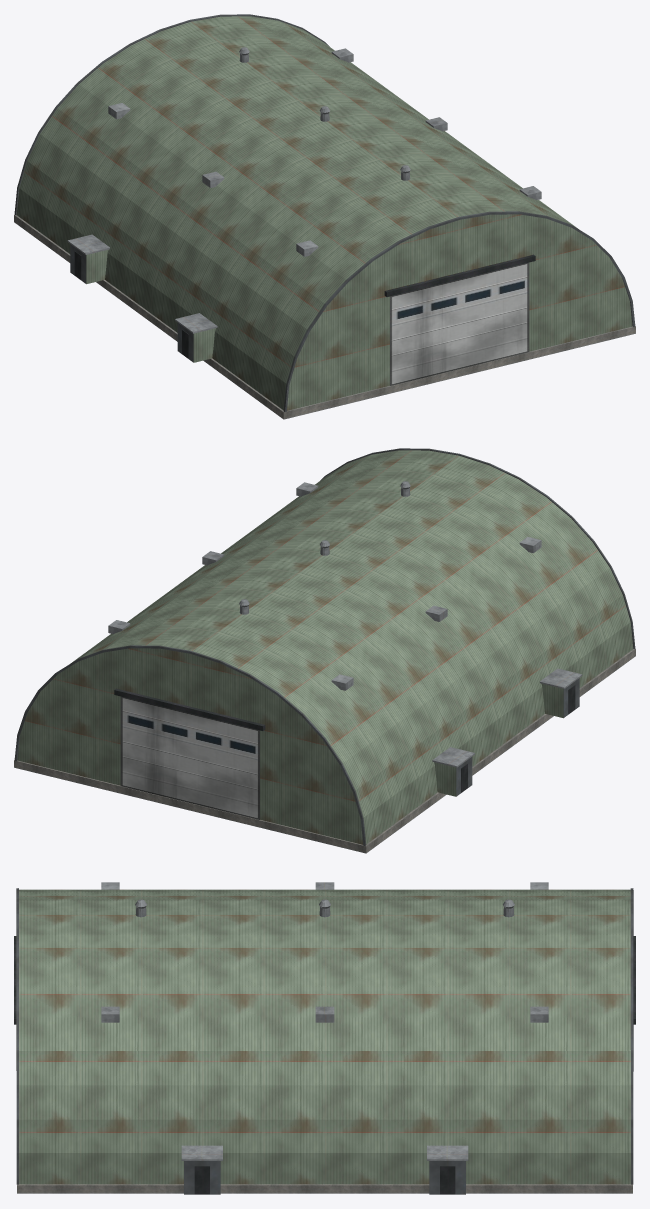
Rendered from wh_arch.glb.
3 renders of one model, top to bottom at view 1: azimuth 30°, elevation 25°; view 2: azimuth 150°, elevation 25°; view 3: azimuth 270°, elevation 25°, orthographic. The views are drawn at different scales.
Parts seen in each view (by area): view 1: body|props; view 2: body|props; view 3: body|props.
Boxes of the visible parts, x1,y1,x2,y2 form: body|props: (14, 14, 635, 419); body|props: (14, 448, 635, 853); body|props: (14, 882, 635, 1194).
Bounding box in the file's own units: 33.5 × 14.05 × 40.6.
1 material, 1 textured.
